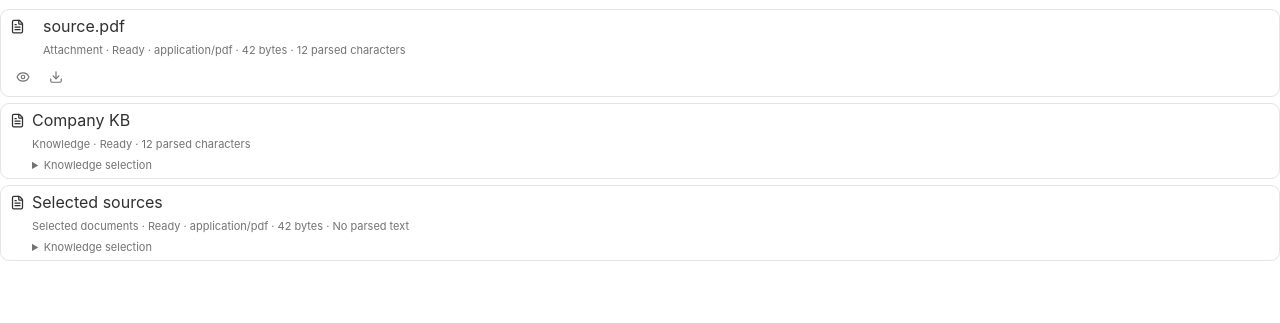
it: SubtaskContexts › renders attachment metadata, parsed availability, and Knowledge snapshots
Expected: the text "source.pdf" is shown, [43,16,125,36]
Expected: the text "Company KB" is shown, [32,110,130,130]
Click the heading "Knowledge selection" below "Company KB" at {"x": 98, "y": 165}, box [44,158,152,172]
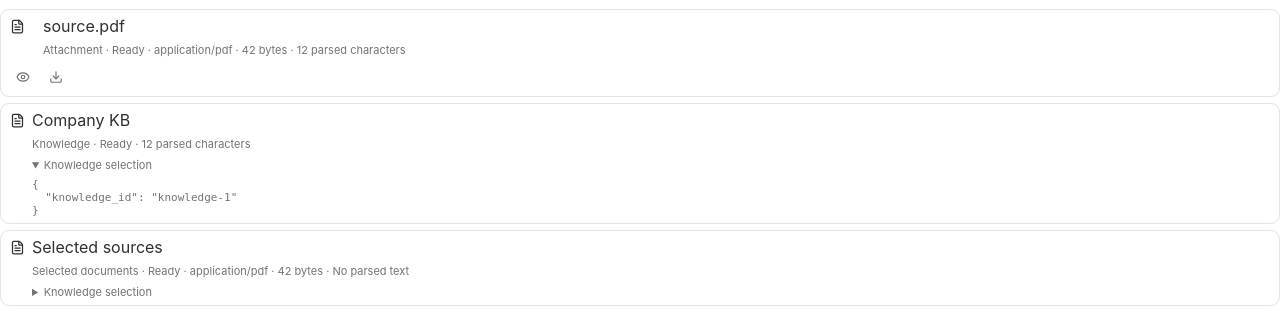
Expected: the text "No parsed text" is shown, [148,264,409,278]
Expected: the text "{ \"knowledge_id\": \"knowledge-1\" }" is shown 2 times
